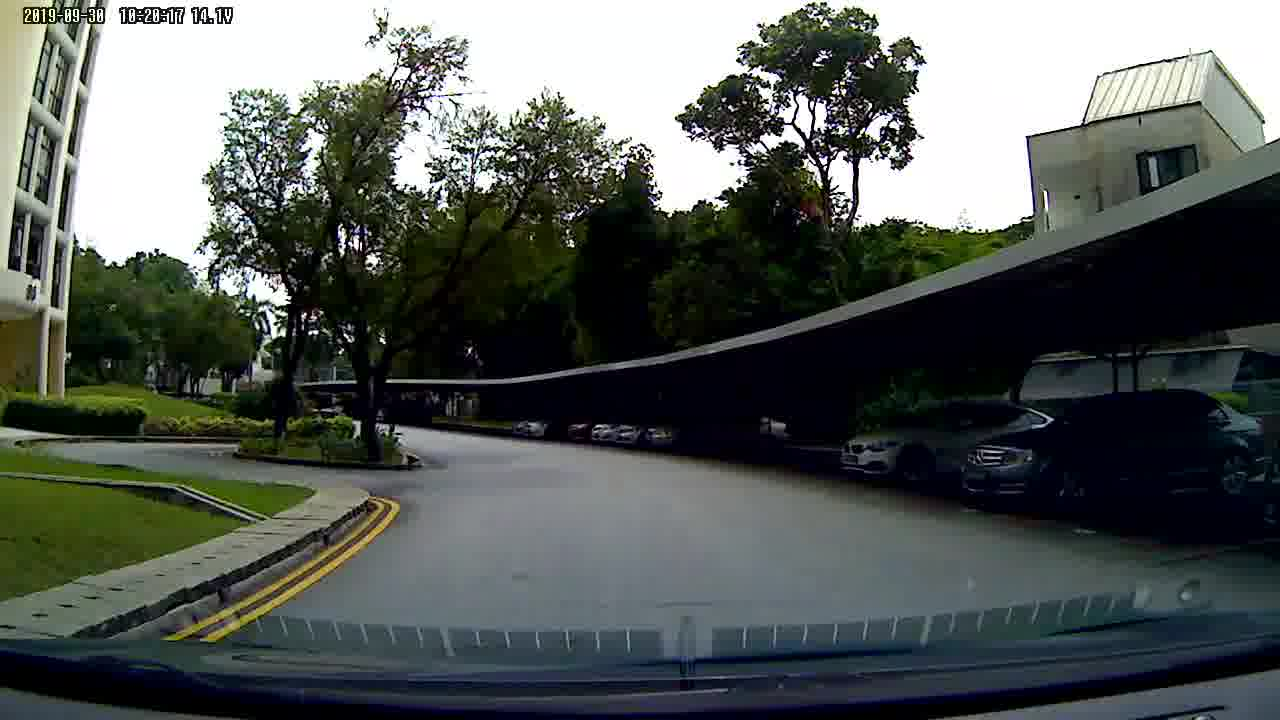car: (966, 394, 1272, 514), (833, 400, 964, 482)
